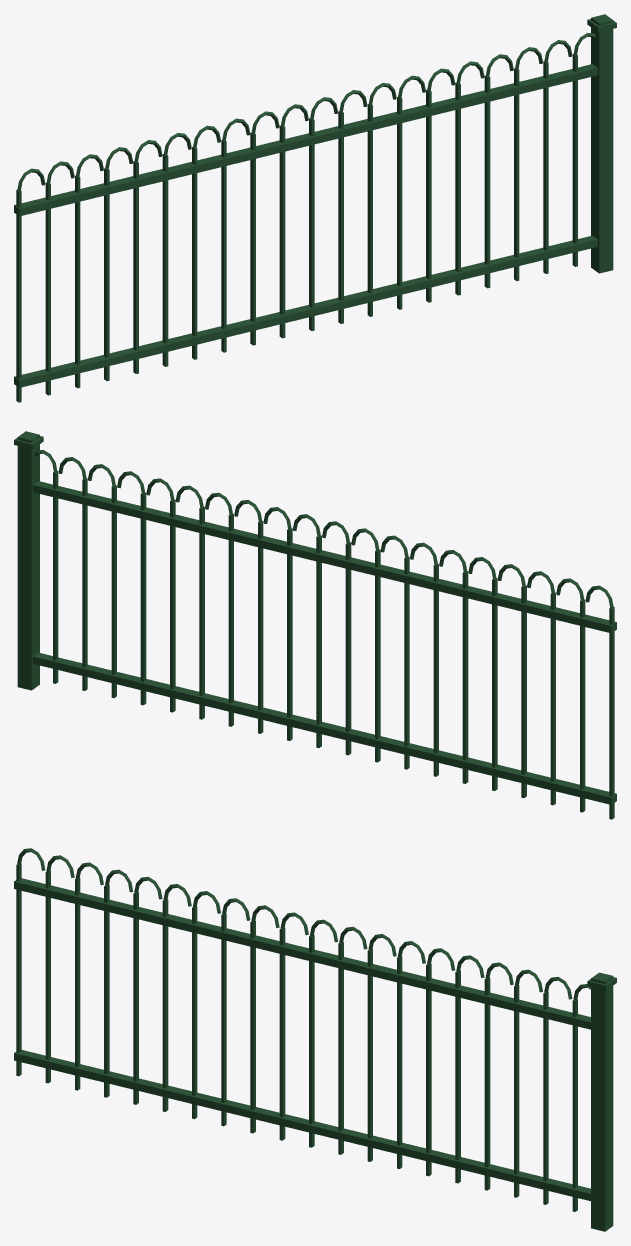
The model's file is SM_Prop_play_fence_0.glb.
3 views of the same model, one above another, from view 1: azimuth 30°, elevation 25°; view 2: azimuth 150°, elevation 25°; view 3: azimuth 330°, elevation 25° (orthographic).
Visible parts, largest first — view 1: SM_Prop_play_fence_0; view 2: SM_Prop_play_fence_0; view 3: SM_Prop_play_fence_0.
Part boxes in pixels (box(x1,y1,x2,y2)): SM_Prop_play_fence_0: box(14, 14, 616, 402); SM_Prop_play_fence_0: box(14, 431, 616, 819); SM_Prop_play_fence_0: box(14, 848, 616, 1231).
Size of the model in its own units: 2.54 by 1.02 by 0.08.
